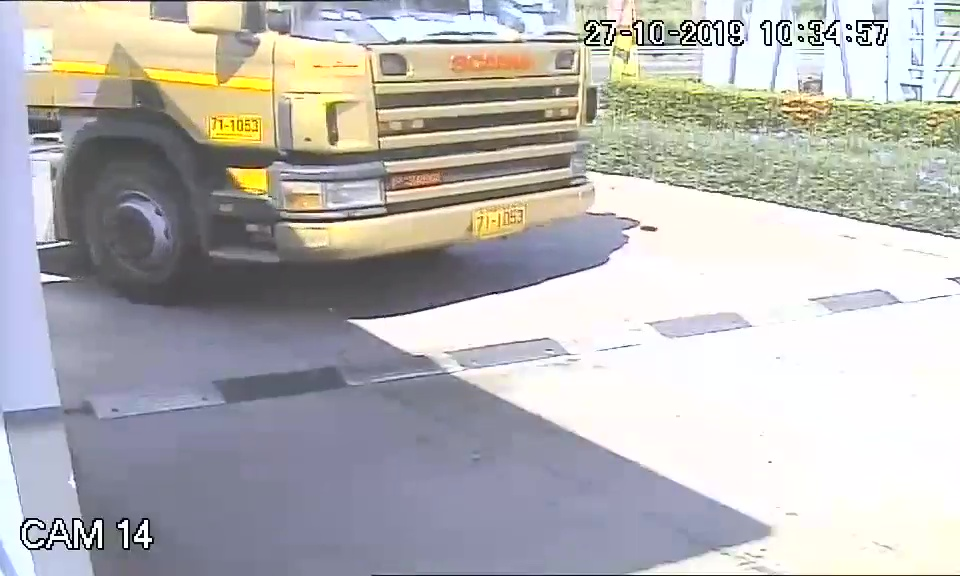truck: (53, 2, 599, 306)
